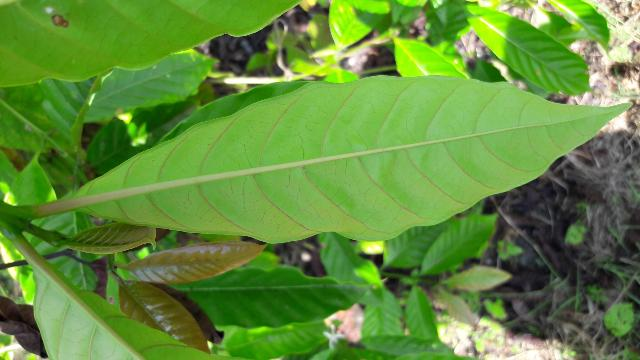healthy: (68, 73, 628, 246)
